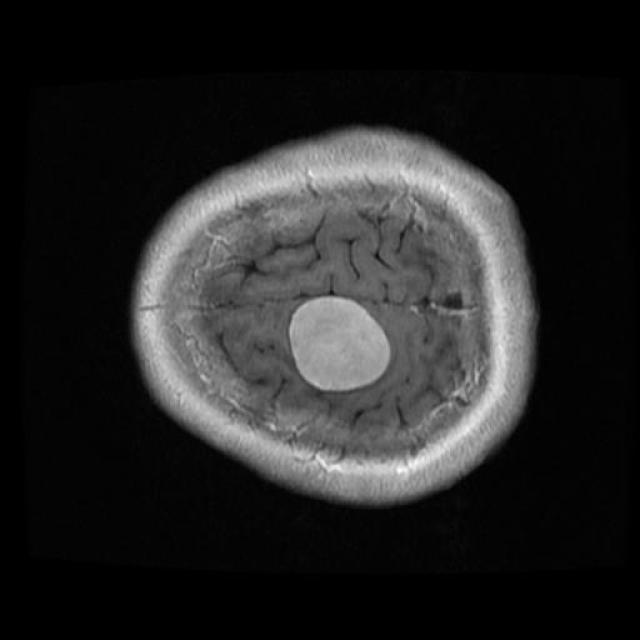Meningioma: (288, 296, 390, 392)
